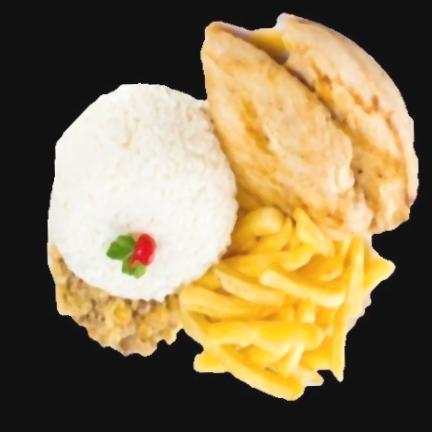chicken: (201, 20, 417, 240), (205, 9, 416, 233)
potato: (174, 200, 399, 399), (179, 207, 390, 399)
rice: (52, 82, 238, 303), (48, 85, 237, 301)
tomato: (131, 235, 156, 267)
